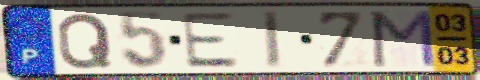5: (113, 9, 172, 72)
7: (317, 9, 368, 70)
E: (179, 11, 242, 70)
I: (259, 9, 284, 71)
M: (370, 8, 438, 69)
Q: (56, 11, 115, 71)
